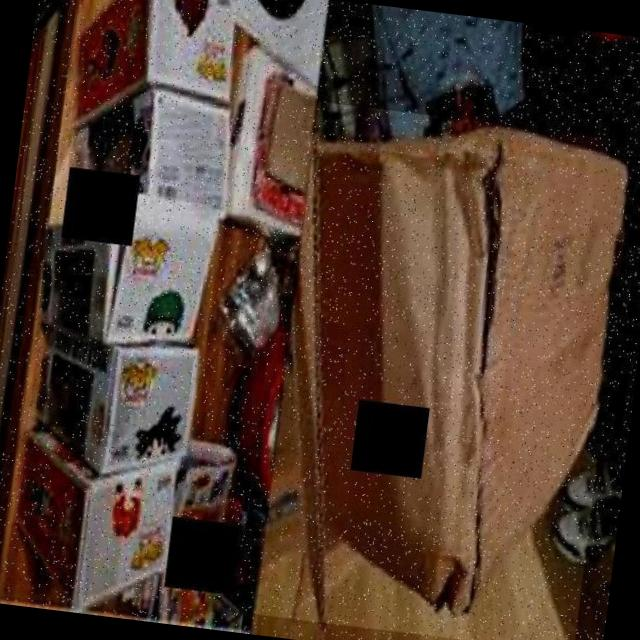box: (254, 101, 635, 640)
